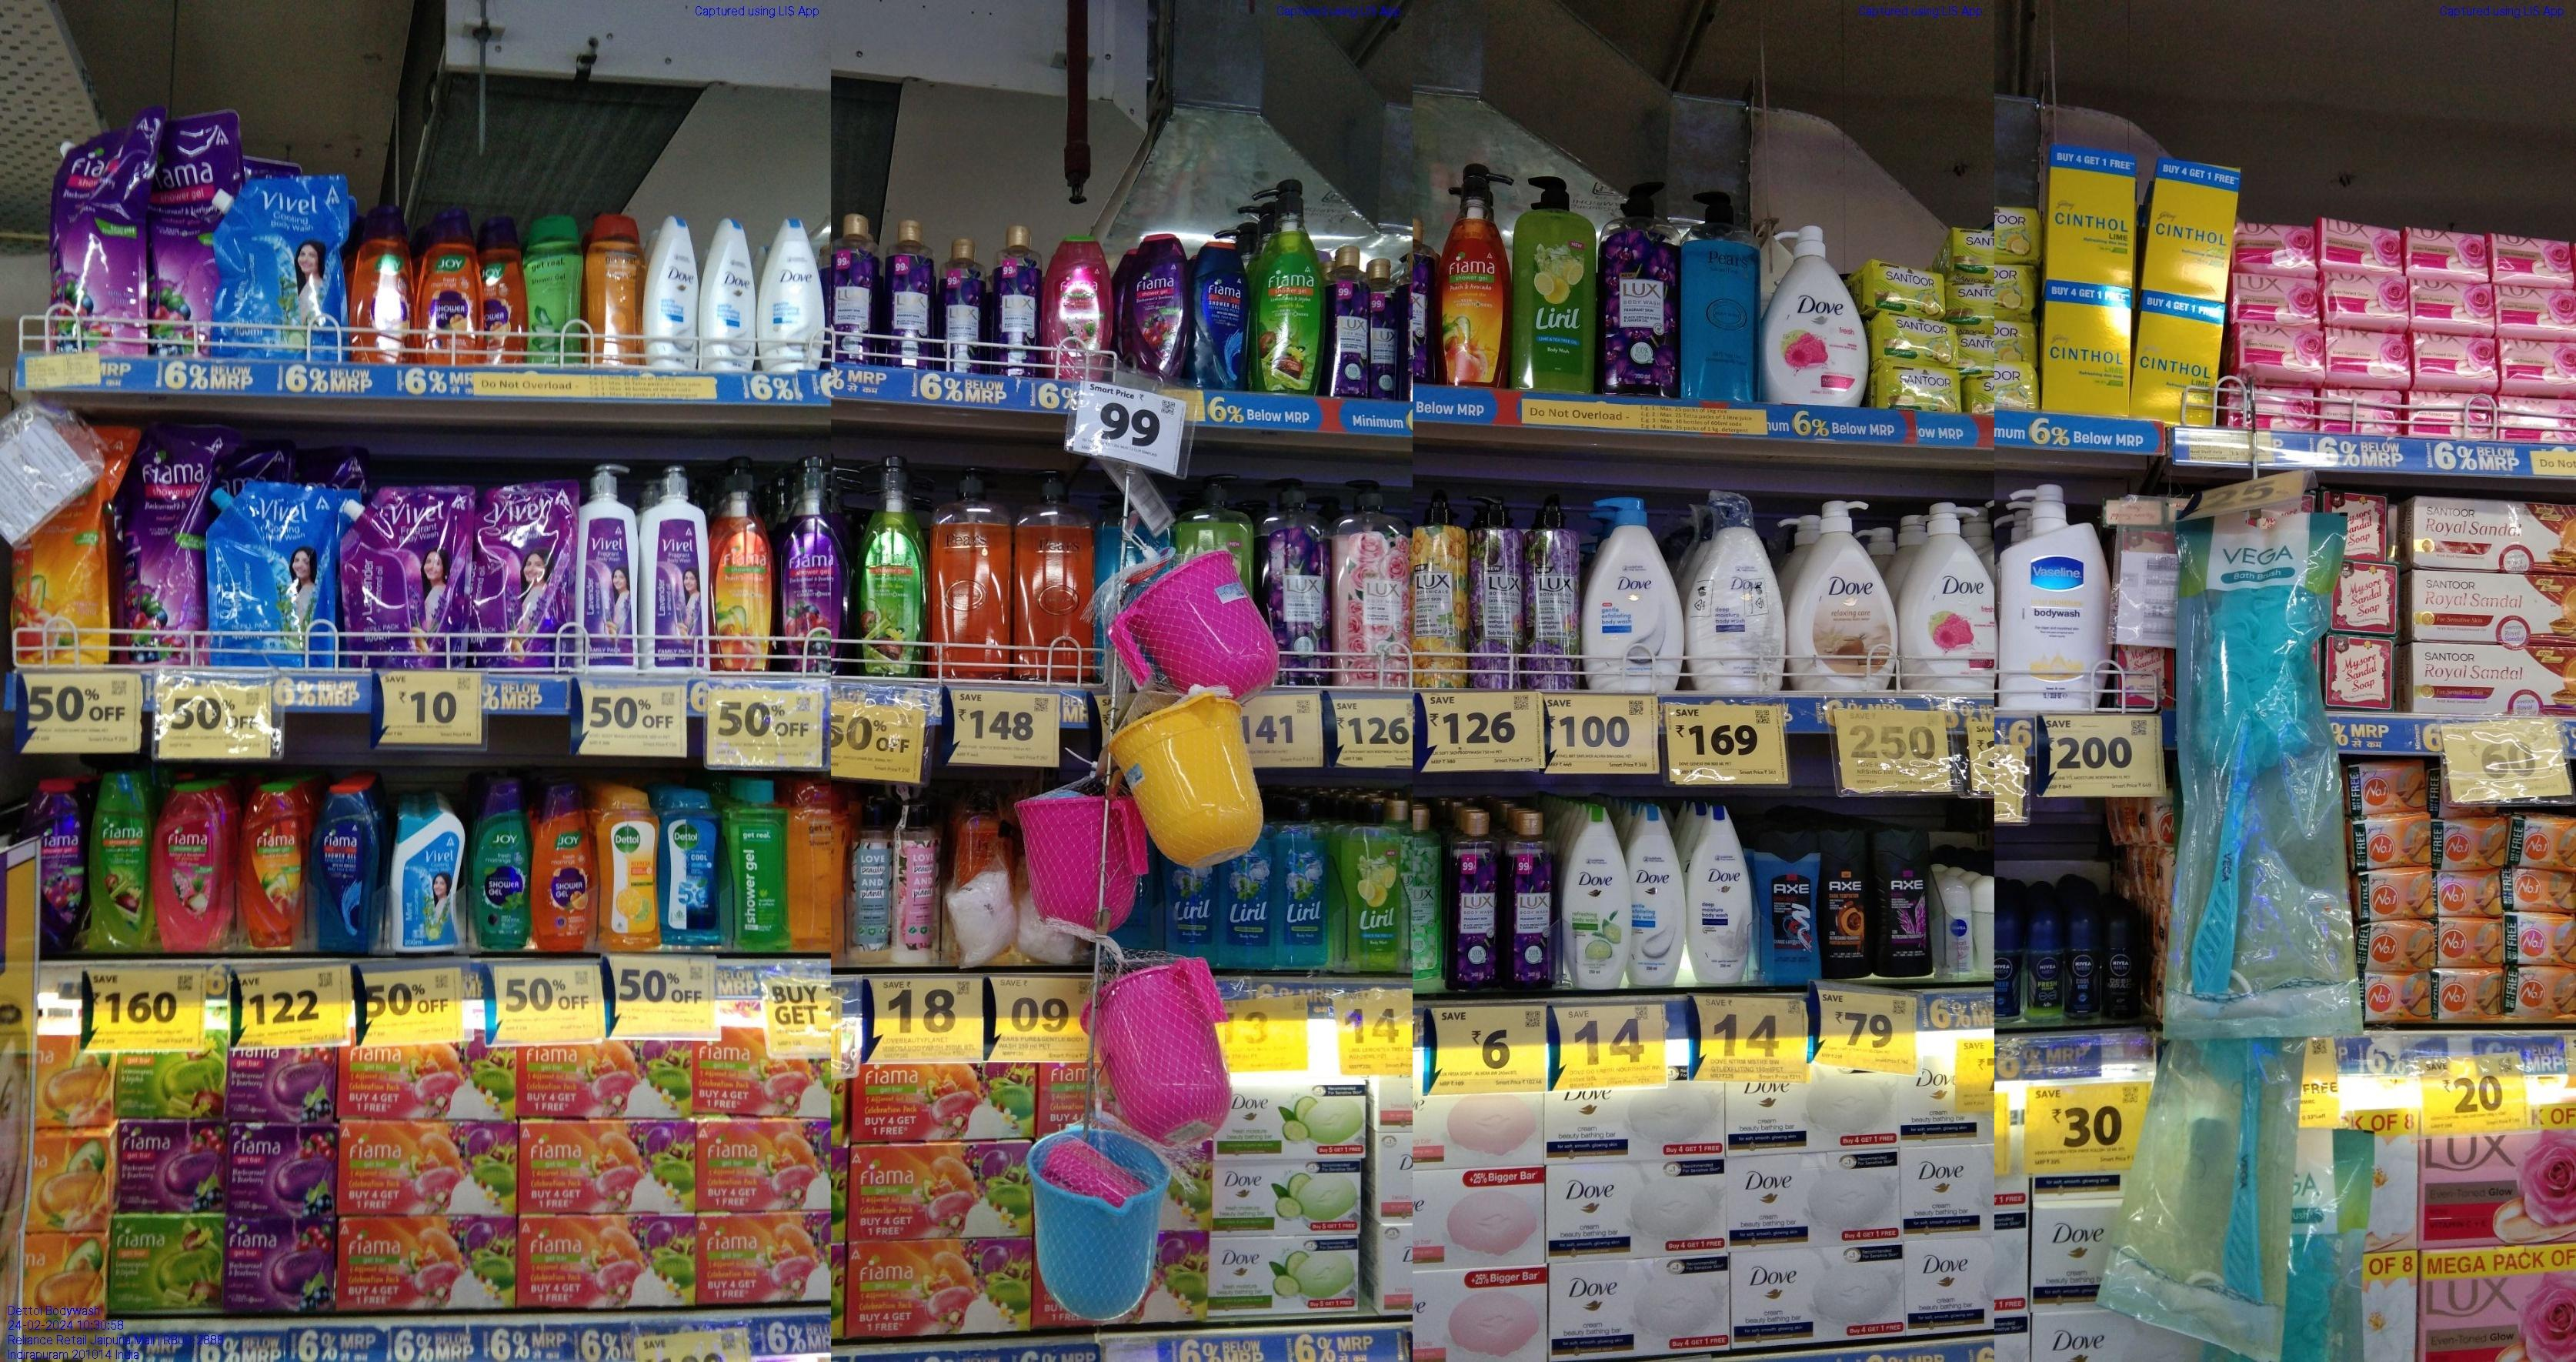Dettol_Bodywash_Cool: (658, 788, 729, 949)
Dettol_Bodywash_Refresh: (598, 789, 659, 953)
Dove_Gentle_Exfoliating_Body_Wash_250ML: (756, 218, 823, 373), (702, 218, 758, 370), (647, 215, 699, 373)
Get_Real_Shower_Gel_Moisturising_Glycerin_300ML: (787, 779, 843, 949), (588, 215, 647, 363)
Joy_Shower_Gel_Mandarin_and_Lemongrass_250ML: (421, 208, 486, 373), (533, 789, 593, 956), (353, 211, 414, 365)
Joy_Shower_Gel_Mint_and_Eucalyptus_250ML: (472, 784, 528, 958)
